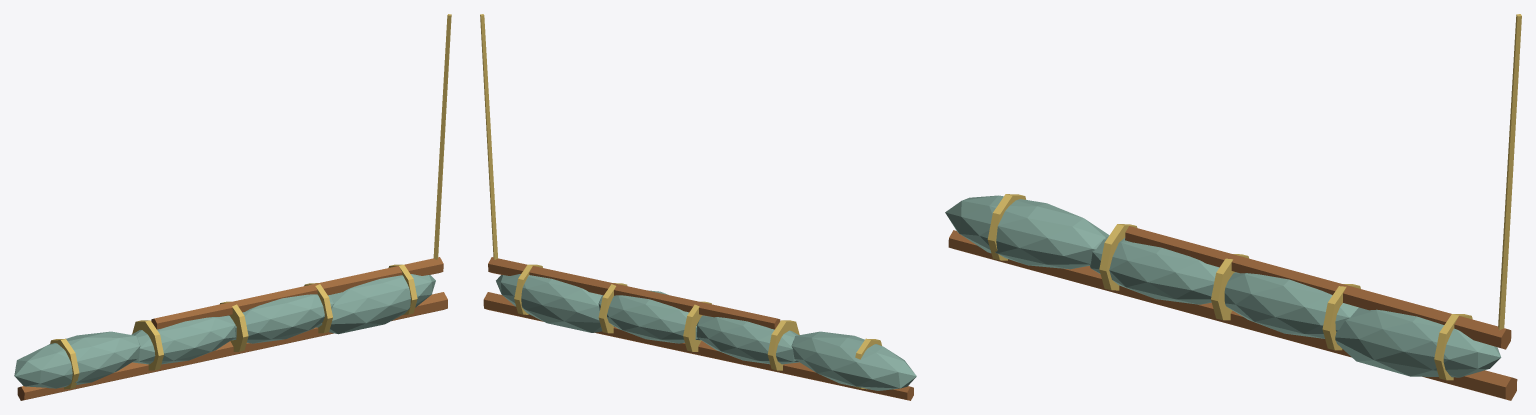
Rendered from ship_sail_furled.glb.
The picture shows the model from 3 angles, left to right: view 1: azimuth 30°, elevation 25°; view 2: azimuth 150°, elevation 25°; view 3: azimuth 330°, elevation 25°; orthographic projection. The views are drawn at different scales.
Parts seen in each view (by area): view 1: Sail_Bundle_4, Sail_Bundle_1, Sail_Gaff, Sail_Bundle_3, Sail_Bundle_2, Sail_Boom, Sail_Halyard, Sail_Lash_4, Sail_Lash_3, Sail_Lash_2, Sail_Lash_5, Sail_Lash_1; view 2: Sail_Bundle_4, Sail_Bundle_1, Sail_Gaff, Sail_Bundle_3, Sail_Bundle_2, Sail_Boom, Sail_Halyard, Sail_Lash_4, Sail_Lash_3, Sail_Lash_2, Sail_Lash_1; view 3: Sail_Bundle_4, Sail_Bundle_1, Sail_Gaff, Sail_Bundle_2, Sail_Bundle_3, Sail_Boom, Sail_Halyard, Sail_Lash_3, Sail_Lash_4, Sail_Lash_2, Sail_Lash_1, Sail_Lash_5.
Part boxes in pixels (left/top/right/bottom): Sail_Bundle_4: left=14, top=331, right=140, bottom=388; Sail_Bundle_1: left=316, top=274, right=435, bottom=334; Sail_Gaff: left=151, top=257, right=443, bottom=329; Sail_Bundle_3: left=131, top=315, right=235, bottom=364; Sail_Bundle_2: left=232, top=294, right=334, bottom=343; Sail_Boom: left=17, top=292, right=447, bottom=400; Sail_Halyard: left=433, top=14, right=451, bottom=259; Sail_Lash_4: left=132, top=320, right=163, bottom=370; Sail_Lash_3: left=220, top=301, right=248, bottom=351; Sail_Lash_2: left=304, top=283, right=332, bottom=333; Sail_Lash_5: left=50, top=338, right=79, bottom=389; Sail_Lash_1: left=388, top=264, right=417, bottom=314; Sail_Bundle_4: left=791, top=331, right=916, bottom=390; Sail_Bundle_1: left=496, top=274, right=614, bottom=332; Sail_Gaff: left=488, top=257, right=780, bottom=329; Sail_Bundle_3: left=696, top=315, right=798, bottom=364; Sail_Bundle_2: left=598, top=290, right=700, bottom=343; Sail_Boom: left=483, top=292, right=913, bottom=400; Sail_Halyard: left=480, top=14, right=497, bottom=259; Sail_Lash_4: left=767, top=320, right=799, bottom=370; Sail_Lash_3: left=683, top=301, right=711, bottom=351; Sail_Lash_2: left=598, top=283, right=627, bottom=333; Sail_Lash_1: left=514, top=264, right=542, bottom=314; Sail_Bundle_4: left=945, top=195, right=1109, bottom=269; Sail_Bundle_1: left=1335, top=307, right=1501, bottom=377; Sail_Gaff: left=1125, top=226, right=1511, bottom=349; Sail_Bundle_2: left=1224, top=272, right=1358, bottom=338; Sail_Bundle_3: left=1089, top=236, right=1219, bottom=304; Sail_Boom: left=948, top=230, right=1517, bottom=400; Sail_Halyard: left=1498, top=14, right=1521, bottom=330; Sail_Lash_3: left=1211, top=254, right=1248, bottom=320; Sail_Lash_4: left=1099, top=224, right=1137, bottom=290; Sail_Lash_2: left=1322, top=284, right=1360, bottom=350; Sail_Lash_1: left=1434, top=314, right=1472, bottom=380; Sail_Lash_5: left=987, top=194, right=1026, bottom=260.
Size of the model in its own units: 4.47 by 2.87 by 0.5142.
